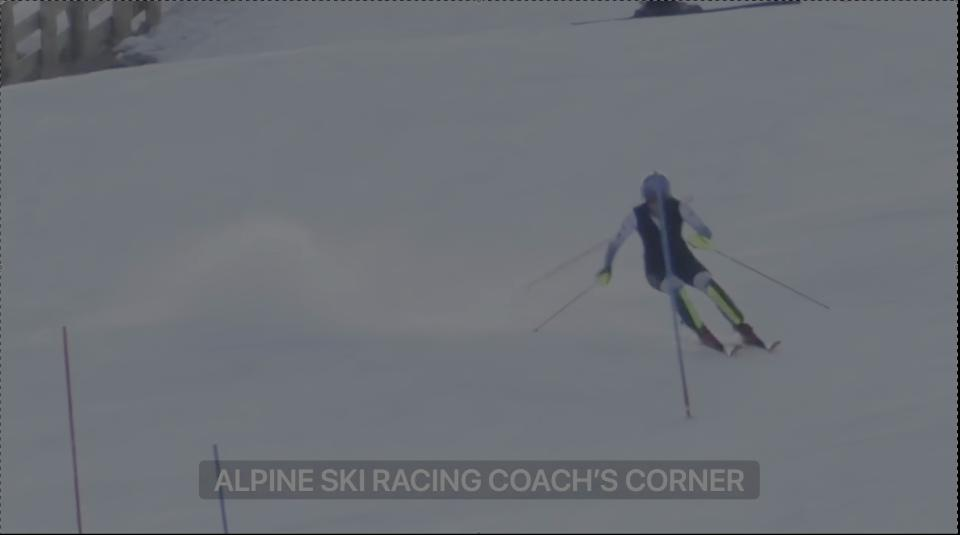gate: (22, 323, 129, 535)
